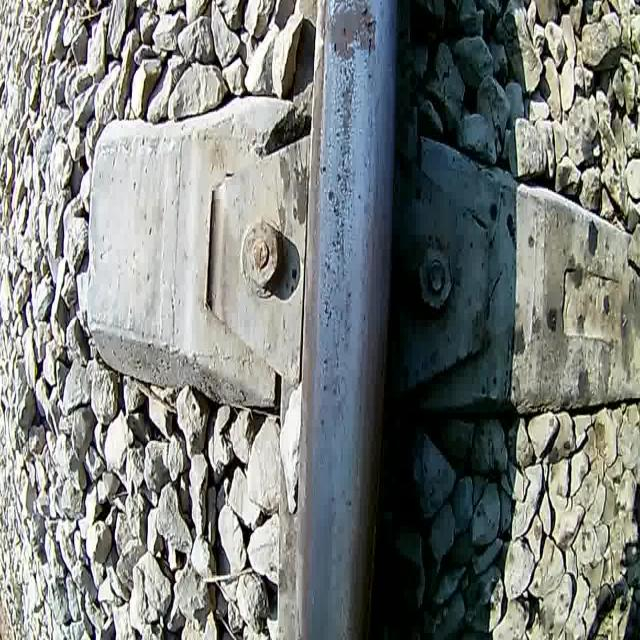Squats: (324, 0, 382, 69)
